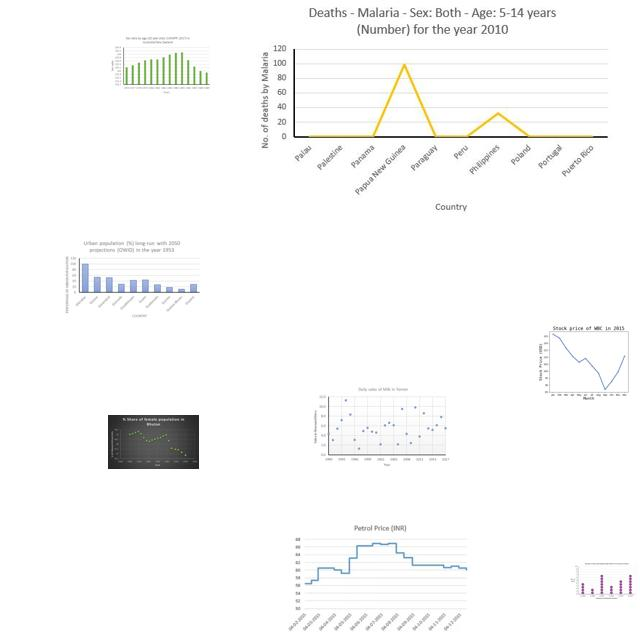Graph: (252, 1, 612, 217), (286, 522, 473, 634), (311, 385, 450, 467), (62, 239, 202, 319), (535, 322, 640, 401), (108, 35, 212, 96), (108, 415, 199, 469), (569, 562, 637, 600)
